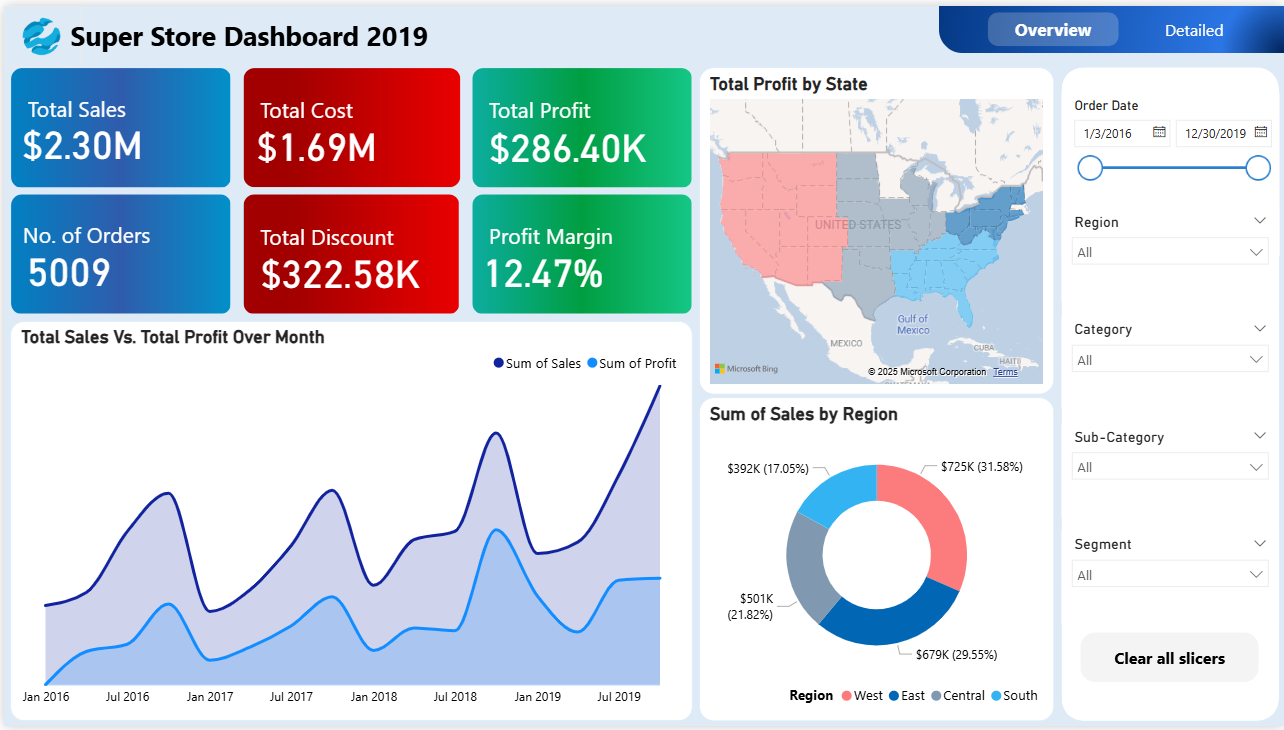

What the dashboard file says about the page in this screenshot:
{"tool":"powerbi","page":{"name":"Overview","canvas":[1280,720],"ordinal":0},"visuals":[{"type":"pageNavigator","box":[984,6,272,34],"z":0},{"type":"image","box":[6.2,61.2,221.2,121.2],"z":0,"group":"g1"},{"type":"image","box":[234.5,61.2,221,121],"z":0,"group":"g3"},{"type":"image","box":[462.5,61.2,221.2,121.2],"z":0,"group":"g5"},{"type":"image","box":[6.2,187.5,221.2,121.2],"z":0,"group":"g2"},{"type":"image","box":[235,187.5,220,121.2],"z":0,"group":"g4"},{"type":"image","box":[462.5,187.5,221.2,121.2],"z":0,"group":"g6"},{"type":"shape","box":[1048.8,61.2,226.2,653.8],"z":1000},{"type":"textbox","box":[247.1,83.5,178.3,52.5],"z":1000,"group":"g3"},{"type":"card","title":"Total Profit","fields":{"Values":["Sum(Orders.Sales)"]},"box":[17.4,108.7,126.2,53.8],"z":1000,"group":"g1"},{"type":"card","title":"Total Profit","fields":{"Values":["Sum(Orders.Profit)"]},"box":[475,113.7,172.5,50],"z":1000,"group":"g5"},{"type":"textbox","box":[13.4,208.4,160.5,53.1],"z":1000,"group":"g2"},{"type":"card","title":"Total Profit","fields":{"Values":["Orders.PrfitMargin"]},"box":[472.5,238.7,127.5,50],"z":1000,"group":"g6"},{"type":"card","title":"Total Profit","fields":{"Values":["Sum(Orders.DiscountAmount)"]},"box":[247.6,240,177,50],"z":1000,"group":"g4"},{"type":"image","box":[0,0,77.5,61.2],"z":2000},{"type":"textbox","box":[18.3,82.9,160.5,53.1],"z":2000,"group":"g1"},{"type":"textbox","box":[474.6,84.2,160.5,53.1],"z":2000,"group":"g5"},{"type":"card","title":"Total Profit","fields":{"Values":["Sum(Orders.Cost)"]},"box":[247.6,112.5,129,50],"z":2000,"group":"g3"},{"type":"textbox","box":[474.6,209.7,160.5,53.1],"z":2000,"group":"g6"},{"type":"textbox","box":[247.6,211.3,161.8,52.5],"z":2000,"group":"g4"},{"type":"card","title":"Total Profit","fields":{"Values":["Count(Orders.Order ID)"]},"box":[17.4,237.5,98.8,51.2],"z":2000,"group":"g2"},{"type":"textbox","box":[61.2,6.2,370,46.2],"z":3000},{"type":"slicer","fields":{"Values":["Orders.Order Date"]},"box":[1048.8,87.5,226.2,161.2],"z":4000},{"type":"slicer","fields":{"Values":["Orders.Category"]},"box":[1048.8,310,226.2,92.5],"z":6000},{"type":"slicer","fields":{"Values":["Orders.Segment"]},"box":[1048.8,525,226.2,92.5],"z":7000},{"type":"slicer","fields":{"Values":["Orders.Sub-Category"]},"box":[1048.8,417.5,226.2,92.5],"z":8000},{"type":"lineChart","title":"Total Sales Vs. Total Profit Over Month","fields":{"Category":["Orders.Order Date.Variation.Date Hierarchy.Year","Orders.Order Date.Variation.Date Hierarchy.Quarter"],"Y":["Sum(Orders.Sales)"],"Y2":["Sum(Orders.Profit)"]},"box":[6.2,315,677,400],"z":9000},{"type":"filledMap","title":"Total Profit by State","fields":{"Category":["Orders.State"],"Series":["Orders.Region"]},"box":[689.6,61.2,350,327.5],"z":10000},{"type":"donutChart","fields":{"Category":["Orders.Region"],"Y":["Sum(Orders.Sales)"]},"box":[689.6,391.2,350,323.8],"z":11000},{"type":"actionButton","box":[1072.5,626.2,178.8,50],"z":12000},{"type":"group","id":"g1","title":"Card 1","box":[6.2,61.2,221.2,121.2],"z":13000},{"type":"group","id":"g2","title":"Card 2","box":[6.2,187.5,221.2,121.2],"z":14000},{"type":"group","id":"g3","title":"Card 3","box":[234.5,61.2,221,121],"z":15000},{"type":"group","id":"g4","title":"Card 4","box":[235,187.5,220,121.2],"z":16000},{"type":"group","id":"g5","title":"Card 5","box":[462.5,61.2,221.2,121.2],"z":17000},{"type":"group","id":"g6","title":"Card 6","box":[462.5,187.5,221.2,121.2],"z":18000},{"type":"slicer","fields":{"Values":["Orders.Region"]},"box":[1048.8,202.5,226.2,93.8],"z":18500}]}

Visuals, with their boxes in screenshot pixels (x1, y1, x2, y2), scaled from the page's 1280x720 canvas onto the 1284x730 screenshot:
pageNavigator: <region>987, 6, 1260, 41</region>
image: <region>6, 62, 228, 185</region>
image: <region>235, 62, 457, 185</region>
image: <region>464, 62, 686, 185</region>
image: <region>6, 190, 228, 313</region>
image: <region>236, 190, 456, 313</region>
image: <region>464, 190, 686, 313</region>
shape: <region>1052, 62, 1279, 725</region>
textbox: <region>248, 85, 427, 138</region>
"Total Profit" card: <region>17, 110, 144, 165</region>
"Total Profit" card: <region>476, 115, 650, 166</region>
textbox: <region>13, 211, 174, 265</region>
"Total Profit" card: <region>474, 242, 602, 293</region>
"Total Profit" card: <region>248, 243, 426, 294</region>
image: <region>0, 0, 78, 62</region>
textbox: <region>18, 84, 179, 138</region>
textbox: <region>476, 85, 637, 139</region>
"Total Profit" card: <region>248, 114, 378, 165</region>
textbox: <region>476, 213, 637, 266</region>
textbox: <region>248, 214, 411, 267</region>
"Total Profit" card: <region>17, 241, 117, 293</region>
textbox: <region>61, 6, 433, 53</region>
slicer - Orders.Order Date: <region>1052, 89, 1279, 252</region>
slicer - Orders.Category: <region>1052, 314, 1279, 408</region>
slicer - Orders.Segment: <region>1052, 532, 1279, 626</region>
slicer - Orders.Sub-Category: <region>1052, 423, 1279, 517</region>
"Total Sales Vs. Total Profit Over Month" lineChart: <region>6, 319, 685, 725</region>
"Total Profit by State" filledMap: <region>692, 62, 1043, 394</region>
donutChart - Orders.Region x Sum(Orders.Sales): <region>692, 397, 1043, 725</region>
actionButton: <region>1076, 635, 1255, 686</region>
"Card 1" group: <region>6, 62, 228, 185</region>
"Card 2" group: <region>6, 190, 228, 313</region>
"Card 3" group: <region>235, 62, 457, 185</region>
"Card 4" group: <region>236, 190, 456, 313</region>
"Card 5" group: <region>464, 62, 686, 185</region>
"Card 6" group: <region>464, 190, 686, 313</region>
slicer - Orders.Region: <region>1052, 205, 1279, 300</region>
